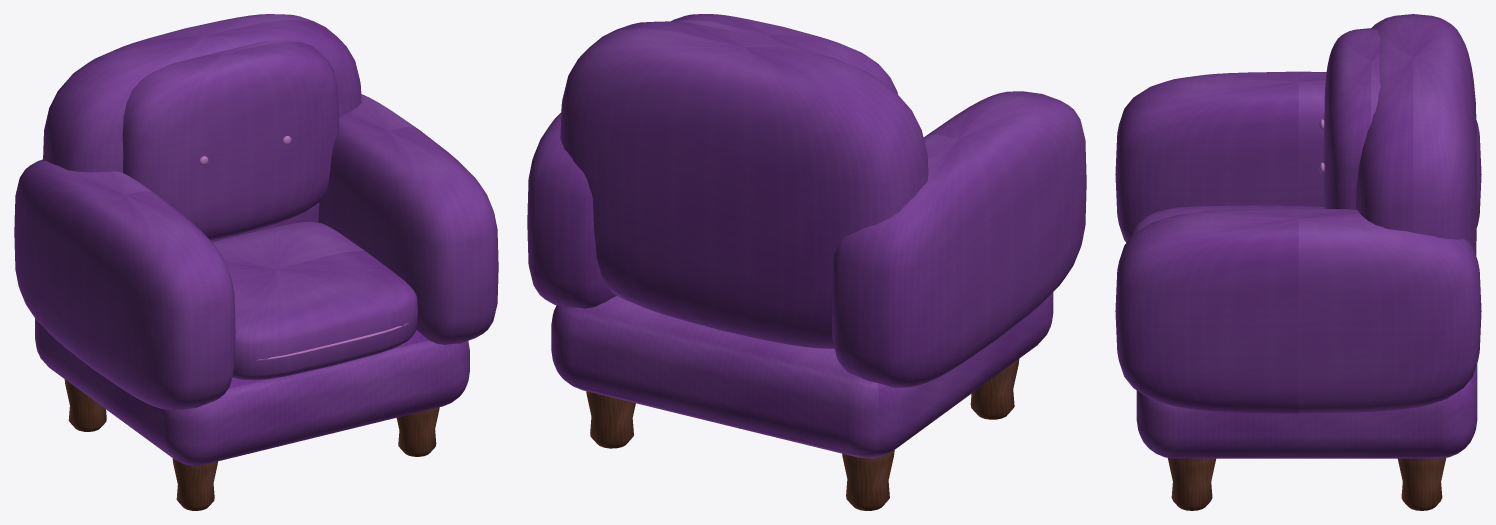
The model's file is V5_Armchair.fbx.
The picture shows the model from 3 angles, left to right: view 1: azimuth 30°, elevation 25°; view 2: azimuth 150°, elevation 25°; view 3: azimuth 270°, elevation 25°; orthographic projection. The views are drawn at different scales.
Visible parts, largest first — view 1: V5_Armchair; view 2: V5_Armchair; view 3: V5_Armchair.
Boxes of the visible parts, x1,y1,x2,y2 form: V5_Armchair: (14,14,498,510); V5_Armchair: (527,14,1086,510); V5_Armchair: (1115,14,1481,510).
Bounding box in the file's own units: 1.01 × 1.01 × 0.86.
1 material, 1 textured.
